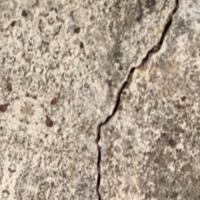crack: (78, 1, 183, 199)
